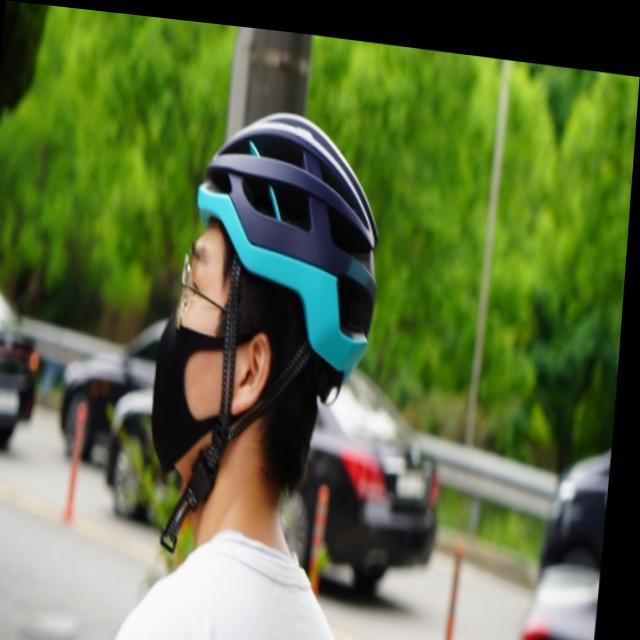Helmet: (144, 89, 378, 498)
